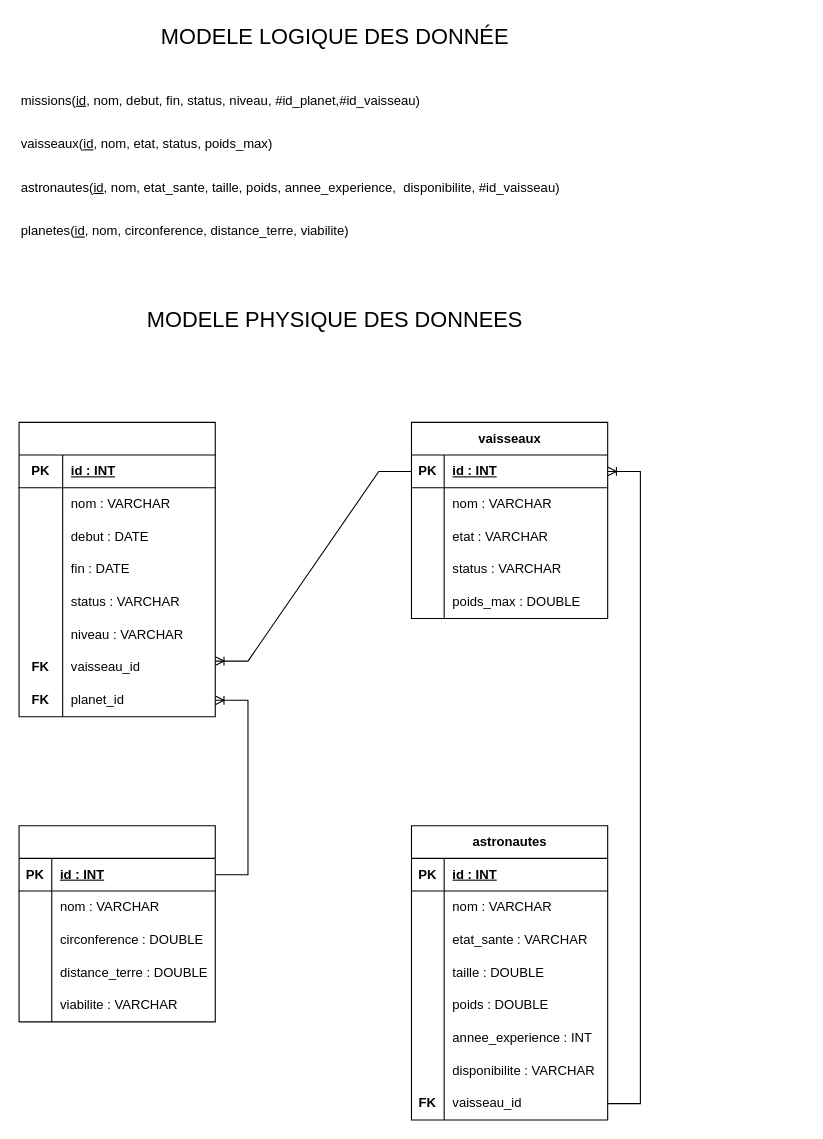
Image size: 823x1139. Some labels were removed from this diagram. Each missing label, with the box of its shape:
missions: (18, 421, 215, 717)
planetes: (18, 825, 215, 1022)
